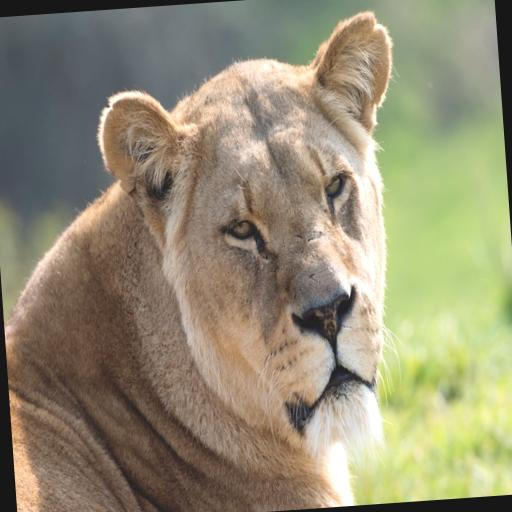lions: (14, 35, 483, 512)
